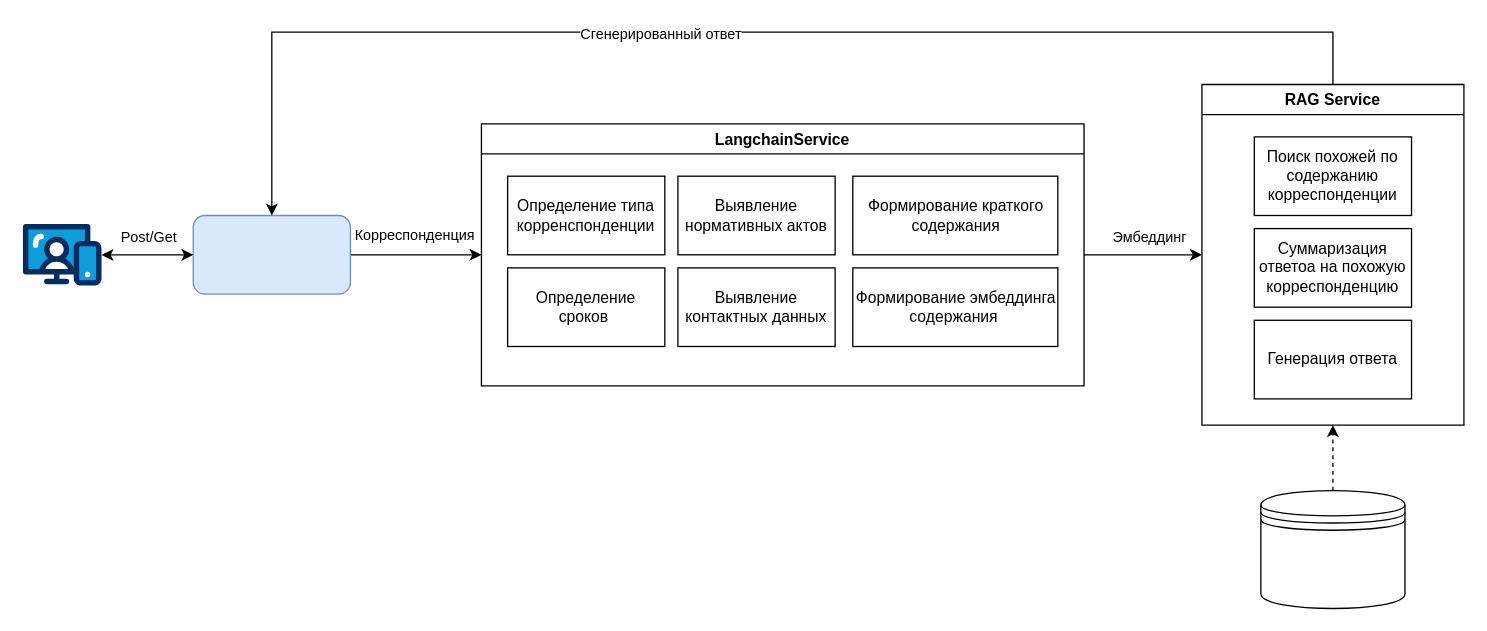
This 1487x631 diagram has some shape labels left out. Each missing label, with the centre of its shape:
"FastAPI" goes at (x=271, y=254).
"БД корренспонденции" goes at (x=1332, y=548).
